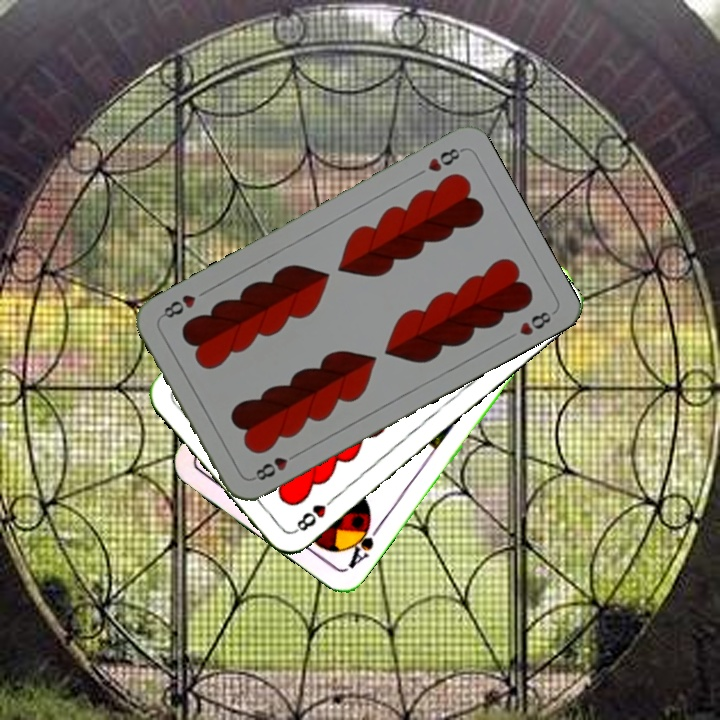H8: (290, 492, 339, 536), (248, 448, 302, 484), (423, 144, 465, 175)
SA: (341, 516, 383, 572)
